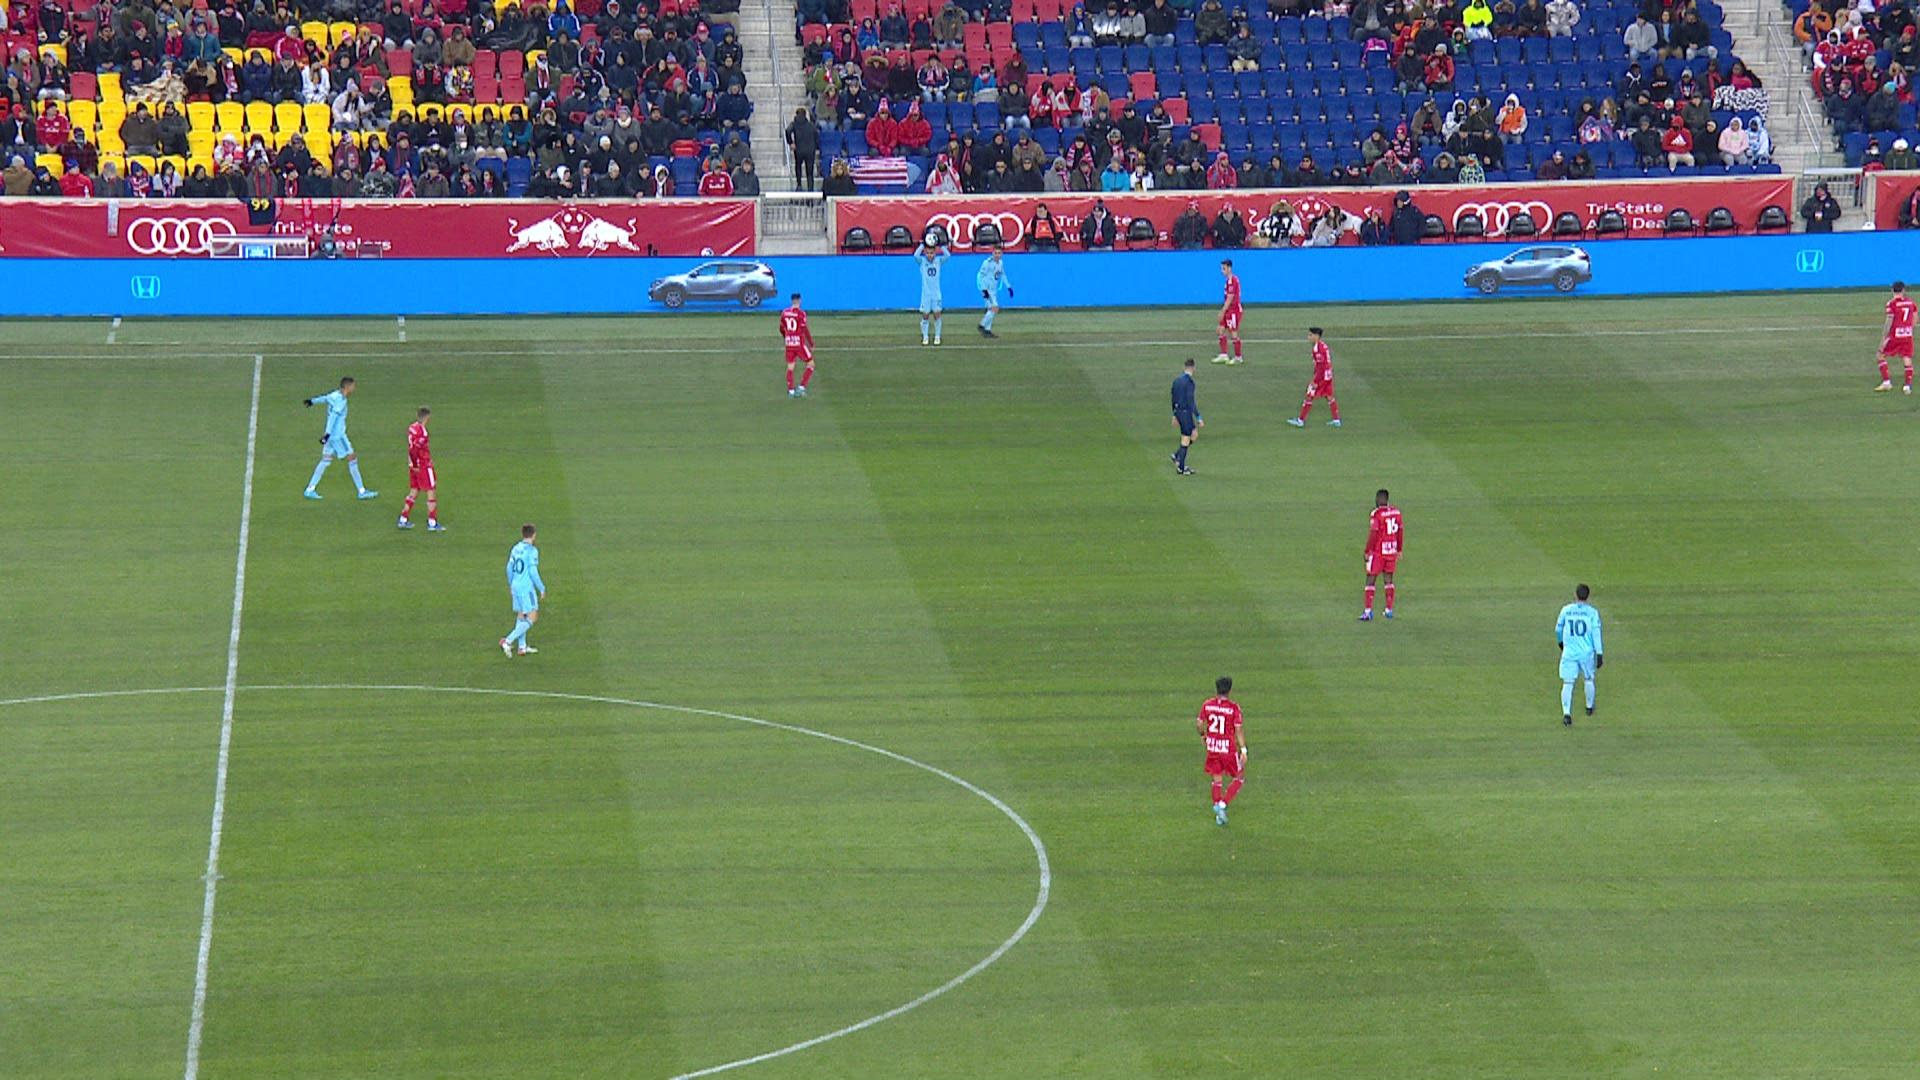football: (927, 235, 936, 244)
